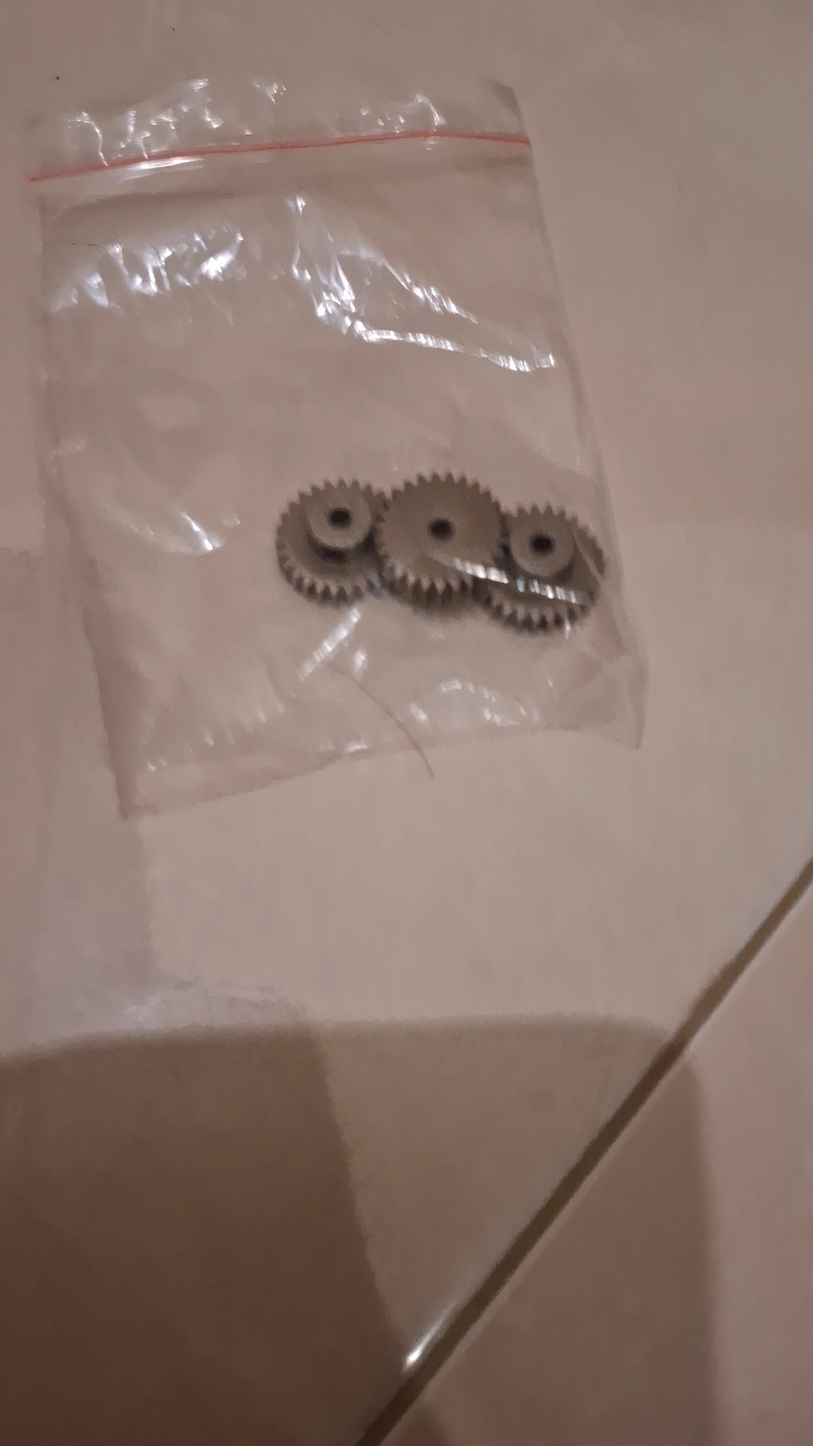spur gear: (376, 474, 502, 604), (482, 508, 604, 630), (276, 481, 382, 602)
